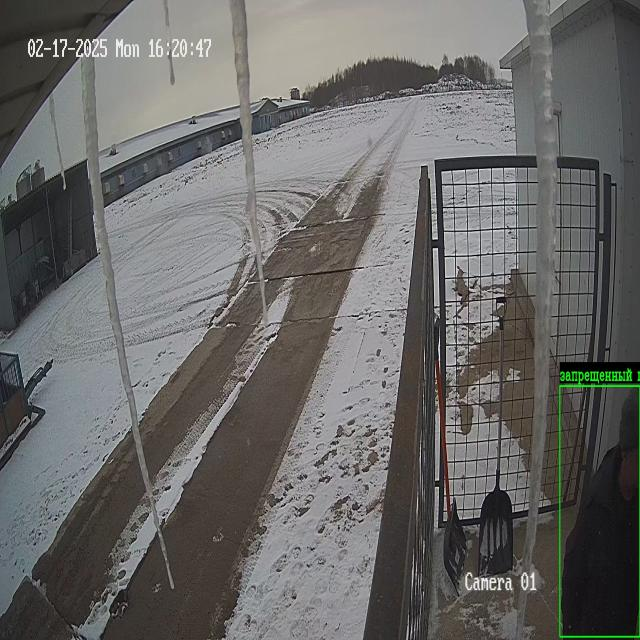Person: (561, 391, 640, 635)
